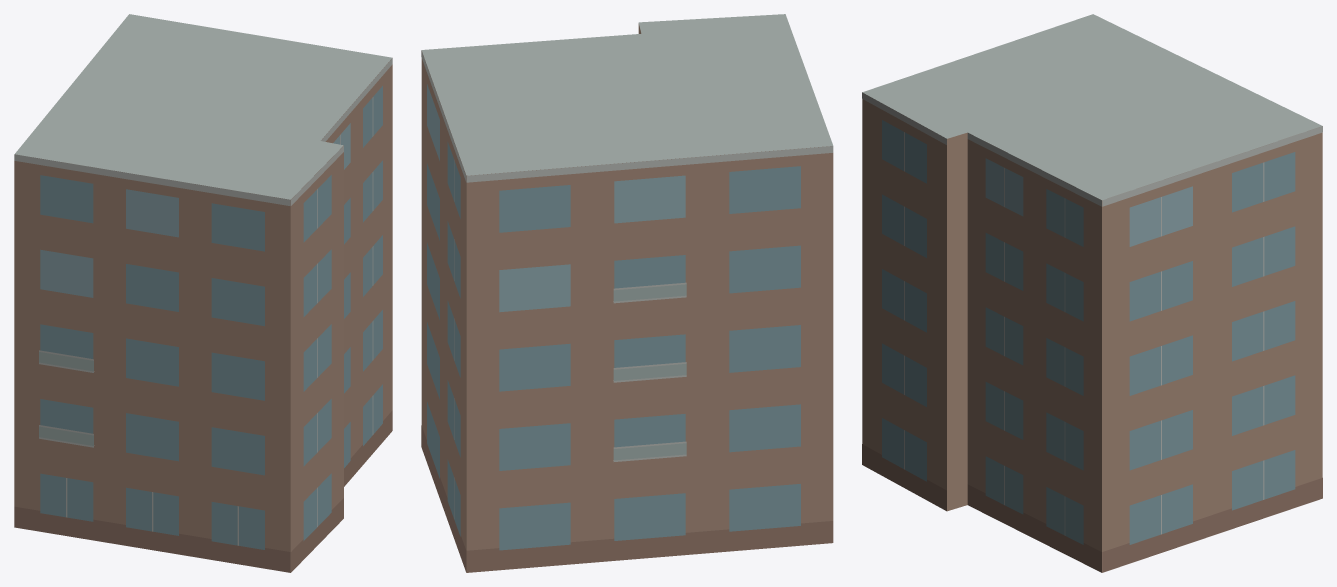
Rendered from survey-upis-32681687.glb.
3 renders of one model, left to right at view 1: azimuth 30°, elevation 25°; view 2: azimuth 150°, elevation 25°; view 3: azimuth 270°, elevation 25°, orthographic. The views are drawn at different scales.
Visible parts, largest first — view 1: survey-upis-32681687.tmp; view 2: survey-upis-32681687.tmp; view 3: survey-upis-32681687.tmp.
Boxes of the visible parts, <box> form: survey-upis-32681687.tmp: <box>14,14,392,572</box>; survey-upis-32681687.tmp: <box>421,14,833,572</box>; survey-upis-32681687.tmp: <box>862,14,1322,572</box>.
Bounding box in the file's own units: 15.03 × 14 × 15.7.
